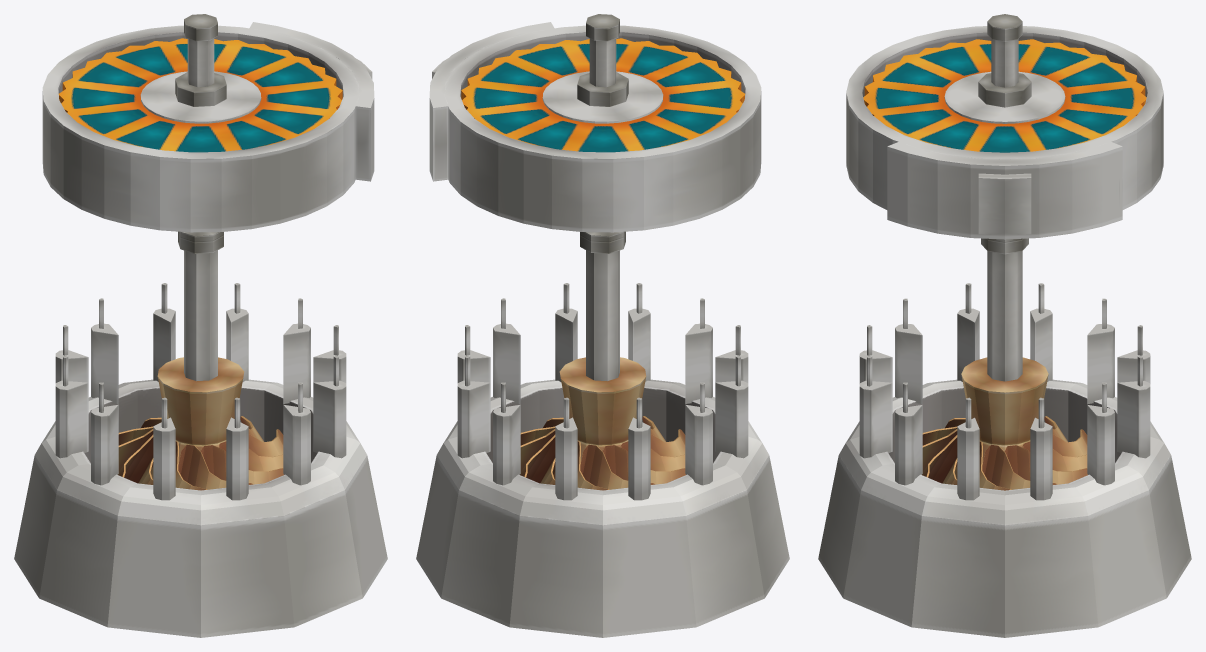
The model's file is turbin air.fbx.
The picture shows the model from 3 angles, left to right: view 1: azimuth 30°, elevation 25°; view 2: azimuth 150°, elevation 25°; view 3: azimuth 270°, elevation 25°; orthographic projection.
Parts seen in each view (by area): view 1: Cylinder.009, Cylinder.008, Cylinder.010, Cylinder.007, Plane, Cylinder.011, Cylinder, Cylinder.012, Cylinder.002, Cylinder.005, Cylinder.003, Cylinder.006; view 2: Cylinder.009, Cylinder.008, Cylinder.010, Cylinder.007, Plane, Cylinder.011, Cylinder, Cylinder.012, Cylinder.002, Cylinder.005, Cylinder.003, Cylinder.006; view 3: Cylinder.009, Cylinder.008, Cylinder.010, Cylinder.007, Plane, Cylinder.011, Cylinder, Cylinder.012, Cylinder.005, Cylinder.002, Cylinder.006, Cylinder.003.
Part boxes in pixels (x1=…): Cylinder.009: x1=14, y1=379, x2=387, y2=637; Cylinder.008: x1=42, y1=22, x2=374, y2=232; Cylinder.010: x1=55, y1=283, x2=346, y2=500; Cylinder.007: x1=58, y1=38, x2=342, y2=152; Plane: x1=118, y1=416, x2=283, y2=490; Cylinder.011: x1=150, y1=357, x2=244, y2=479; Cylinder: x1=184, y1=250, x2=217, y2=381; Cylinder.012: x1=140, y1=71, x2=261, y2=123; Cylinder.002: x1=187, y1=38, x2=214, y2=87; Cylinder.005: x1=175, y1=72, x2=226, y2=106; Cylinder.003: x1=178, y1=231, x2=223, y2=253; Cylinder.006: x1=184, y1=14, x2=217, y2=41; Cylinder.009: x1=416, y1=379, x2=789, y2=637; Cylinder.008: x1=429, y1=22, x2=761, y2=232; Cylinder.010: x1=457, y1=283, x2=748, y2=500; Cylinder.007: x1=461, y1=38, x2=745, y2=152; Plane: x1=520, y1=416, x2=685, y2=490; Cylinder.011: x1=552, y1=357, x2=646, y2=479; Cylinder: x1=586, y1=250, x2=619, y2=381; Cylinder.012: x1=542, y1=71, x2=663, y2=123; Cylinder.002: x1=589, y1=38, x2=616, y2=87; Cylinder.005: x1=577, y1=72, x2=628, y2=106; Cylinder.003: x1=580, y1=231, x2=625, y2=253; Cylinder.006: x1=586, y1=14, x2=619, y2=41; Cylinder.009: x1=818, y1=379, x2=1191, y2=637; Cylinder.008: x1=846, y1=26, x2=1163, y2=239; Cylinder.010: x1=859, y1=283, x2=1150, y2=500; Cylinder.007: x1=863, y1=39, x2=1146, y2=152; Plane: x1=922, y1=416, x2=1087, y2=490; Cylinder.011: x1=954, y1=357, x2=1048, y2=479; Cylinder: x1=987, y1=251, x2=1022, y2=381; Cylinder.012: x1=944, y1=71, x2=1065, y2=123; Cylinder.005: x1=978, y1=73, x2=1031, y2=107; Cylinder.002: x1=991, y1=39, x2=1018, y2=87; Cylinder.006: x1=987, y1=14, x2=1022, y2=41; Cylinder.003: x1=981, y1=238, x2=1028, y2=254.
Size of the model in its own units: 222 by 353 by 222.
Materials: 1 (1 with a texture image).
